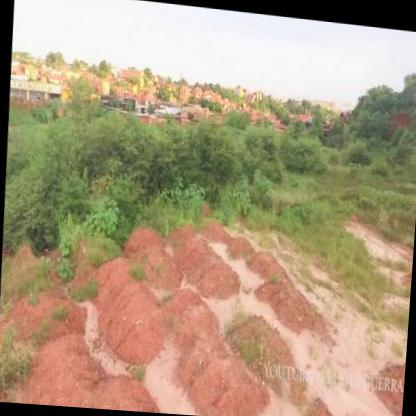agua: (202, 230, 276, 348)
